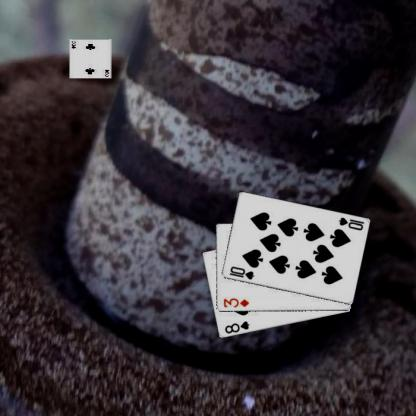10S: (336, 214, 365, 232), (226, 264, 255, 281)
3D: (221, 296, 250, 309)
8S: (222, 319, 250, 335)
